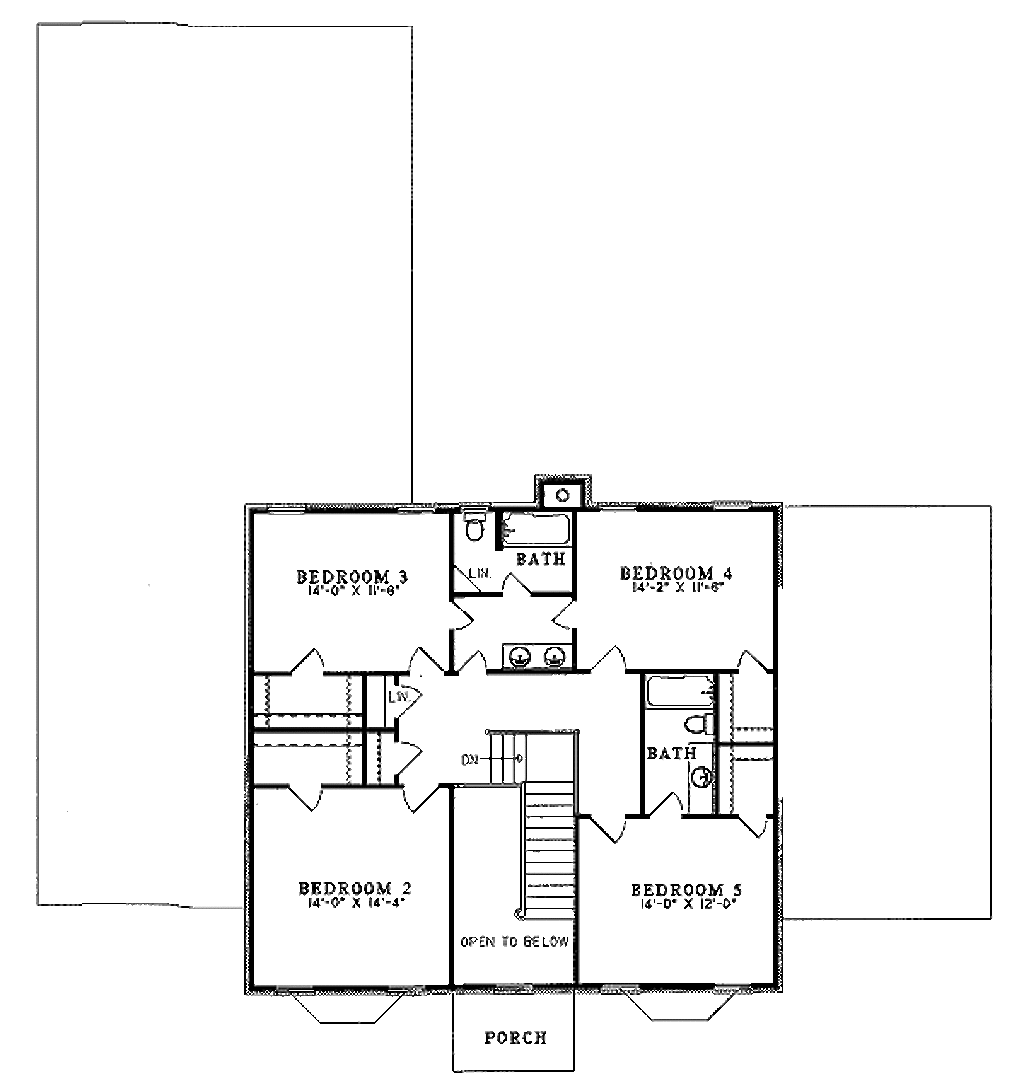door: (579, 806, 637, 847), (376, 681, 427, 723), (584, 640, 633, 681), (283, 640, 330, 681), (728, 643, 777, 682), (278, 782, 334, 815), (650, 786, 693, 825), (439, 559, 481, 598), (405, 643, 451, 677), (400, 776, 439, 816), (456, 640, 493, 682), (493, 562, 528, 606), (552, 589, 586, 633), (441, 601, 483, 632), (738, 810, 776, 843), (386, 735, 412, 781)
large_sink: (444, 493, 498, 549), (674, 704, 726, 745)
small_sink: (505, 643, 572, 672), (693, 747, 720, 808)
stairs: (475, 727, 577, 932)
tub: (493, 506, 570, 550), (645, 671, 718, 710)
